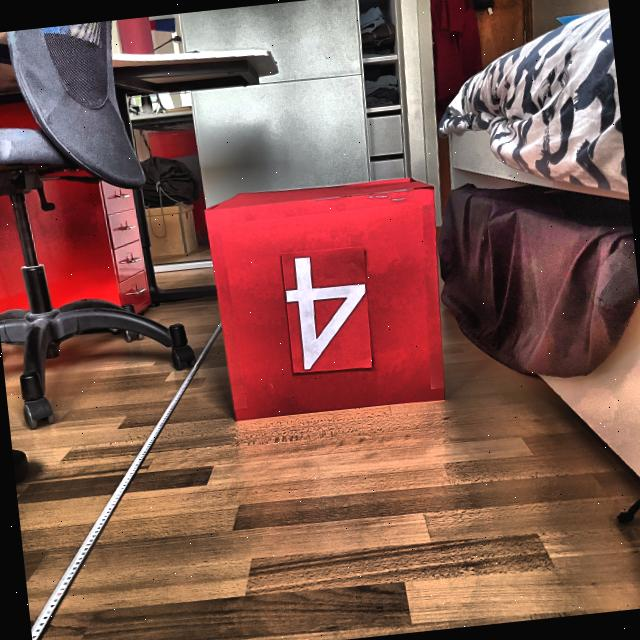four: (278, 248, 375, 372)
red box: (202, 172, 449, 425)
